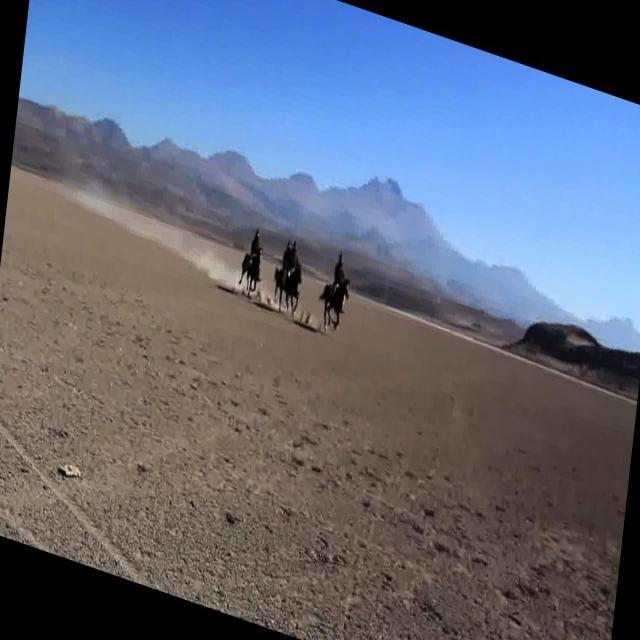drone: (82, 0, 112, 10)
